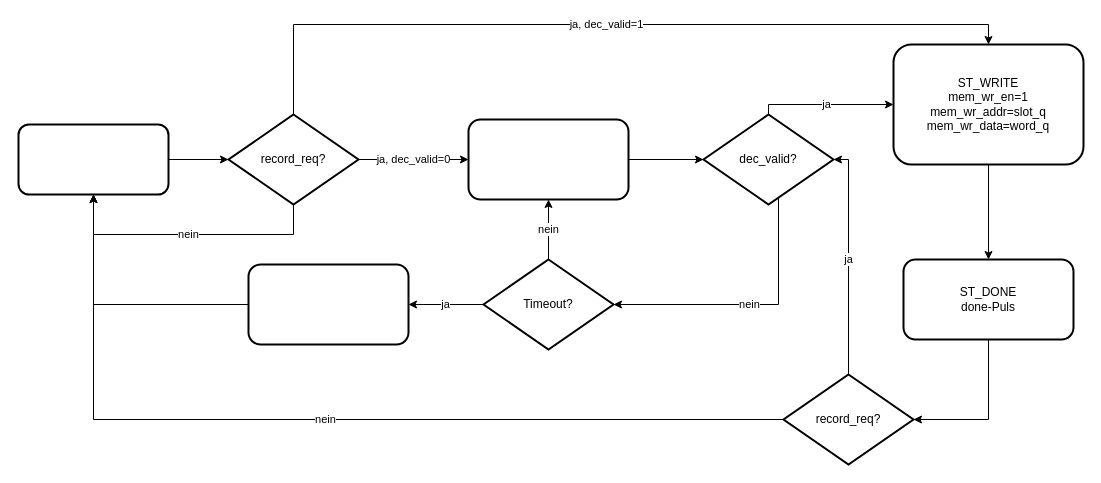
This 1101x483 diagram has some shape labels left out. The centre of each missing label's shape, as x and y in pixels:
"ST_ERROR error-Puls" belongs at point 328,304.
"ST_IDLE" belongs at point 93,159.
"ST_WAIT_VALID" belongs at point 548,159.
